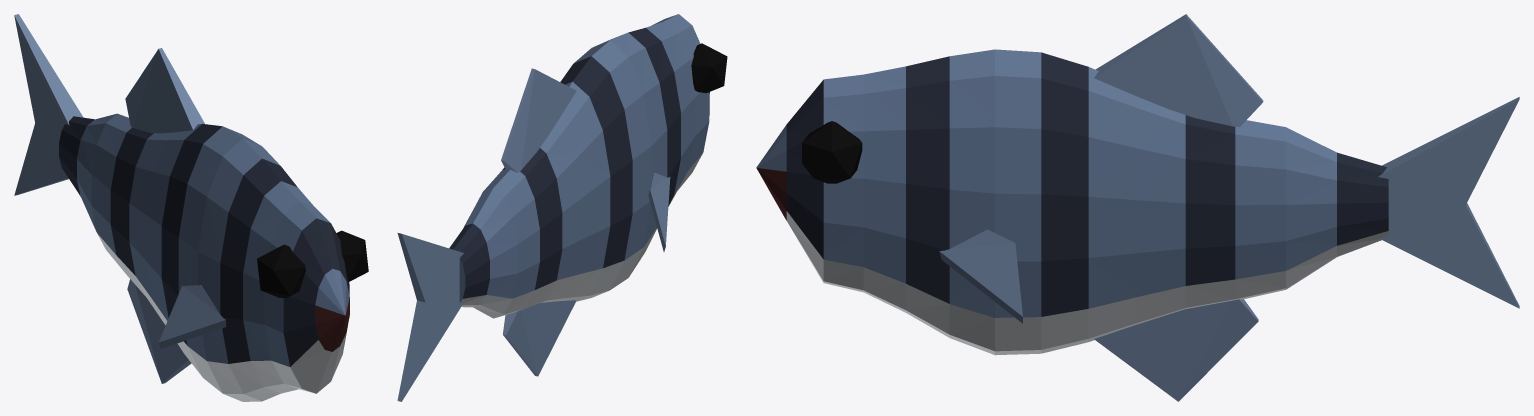
Rendered from FoeSpitter.obj.
3 renders of one model, left to right at view 1: azimuth 30°, elevation 25°; view 2: azimuth 150°, elevation 25°; view 3: azimuth 270°, elevation 25°, orthographic. The views are drawn at different scales.
Visible parts, largest first — view 1: FoeSpitter; view 2: FoeSpitter; view 3: FoeSpitter.
Part boxes in pixels (left/top/right/bottom): FoeSpitter: left=14, top=14, right=368, bottom=401; FoeSpitter: left=397, top=14, right=727, bottom=401; FoeSpitter: left=756, top=14, right=1519, bottom=401.
Bounding box in the file's own units: 0.2499 × 0.5523 × 0.99.
